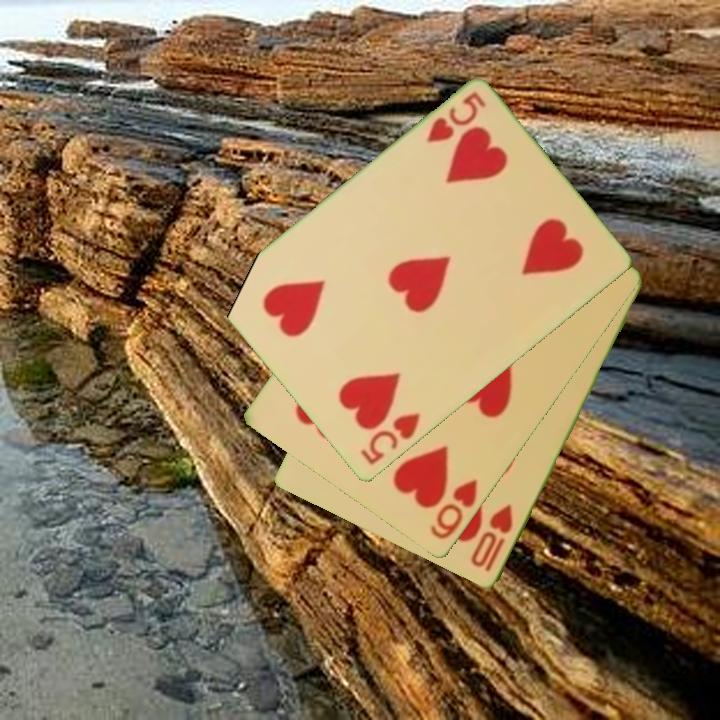10h: (467, 500, 516, 576)
5h: (357, 409, 424, 469), (423, 88, 489, 147)
6h: (426, 476, 481, 543)
